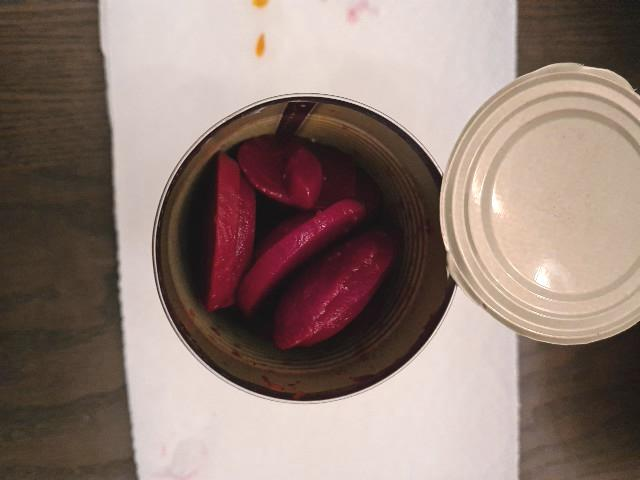kichen waste: (204, 140, 396, 350)
